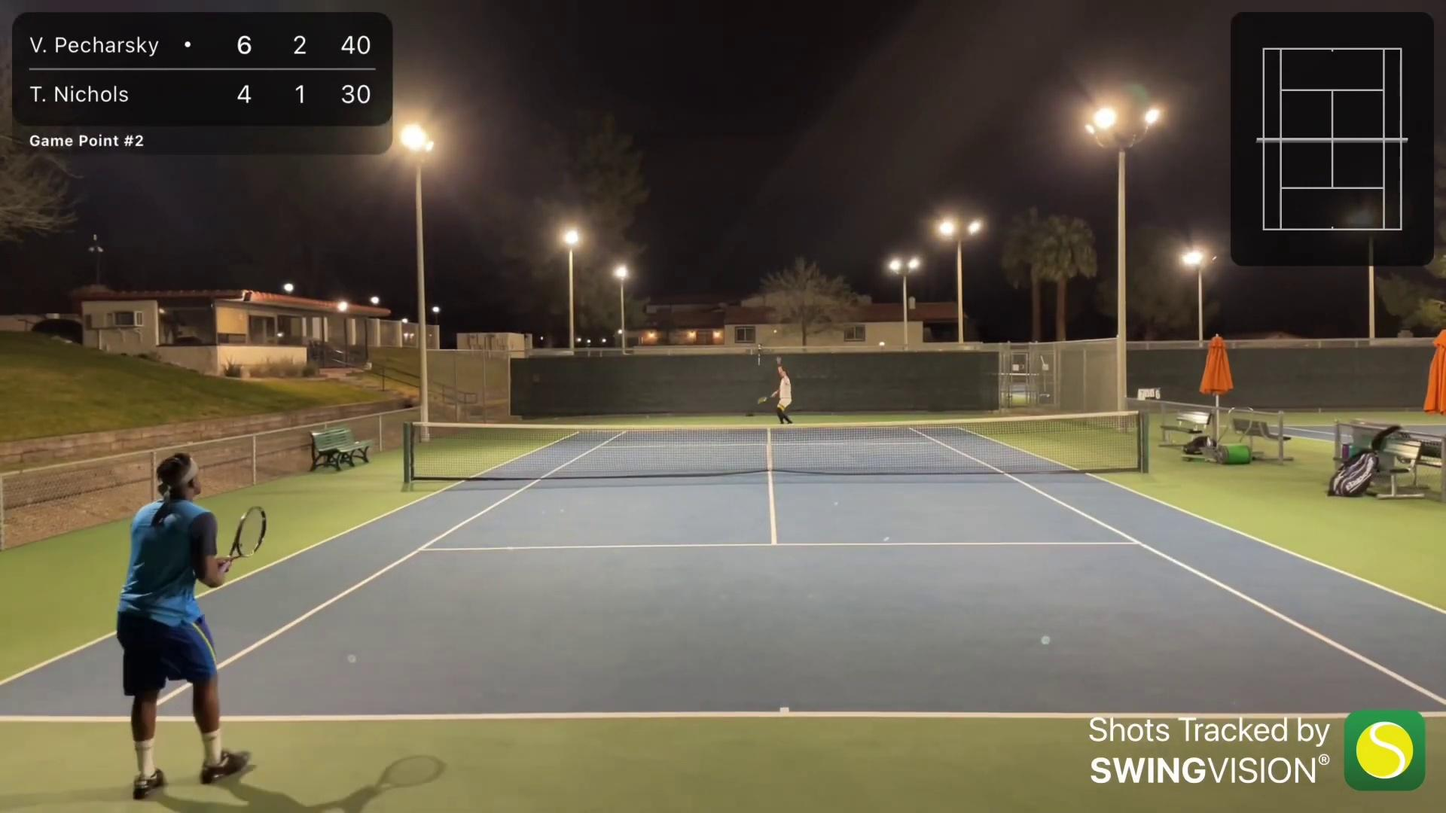ball: (771, 327, 778, 334)
